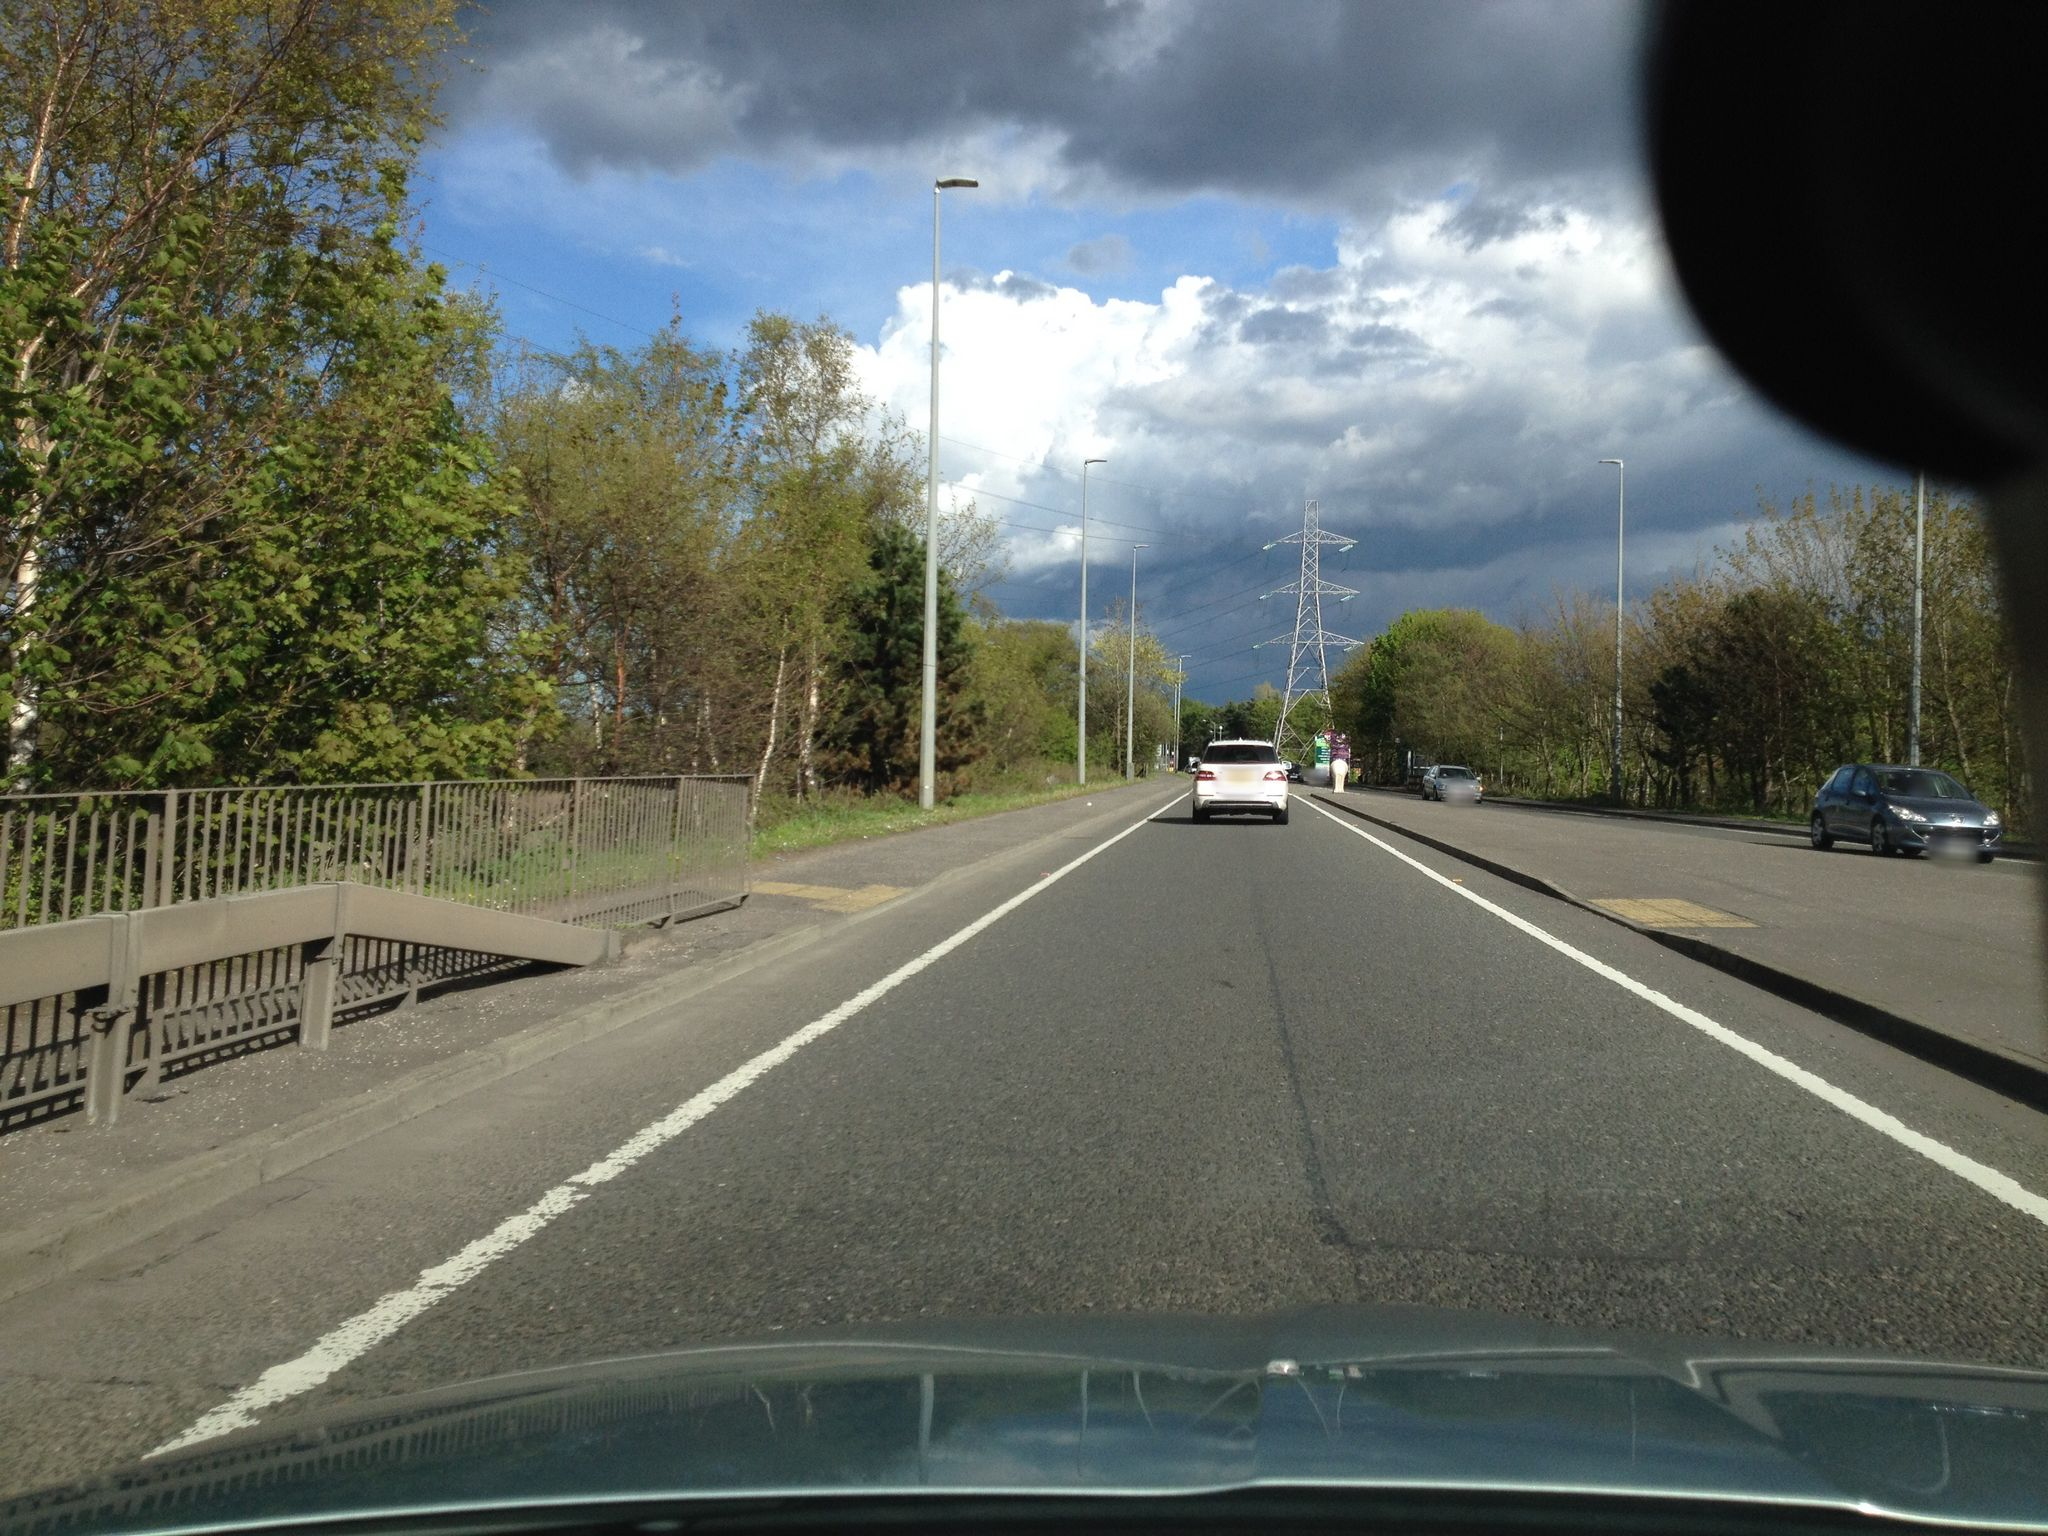car: (1808, 762, 2008, 866), (1188, 737, 1293, 824), (1421, 765, 1484, 803)
